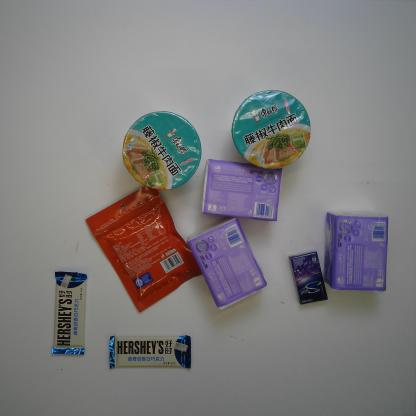Chocolate: (51, 272, 87, 356), (109, 335, 191, 368)
Dried Fruit: (85, 183, 204, 313)
Gum: (289, 251, 328, 305)
Instant Noodles: (230, 89, 311, 170), (122, 110, 202, 192)
Tissue: (186, 216, 266, 310), (323, 210, 389, 292), (202, 158, 283, 221)
